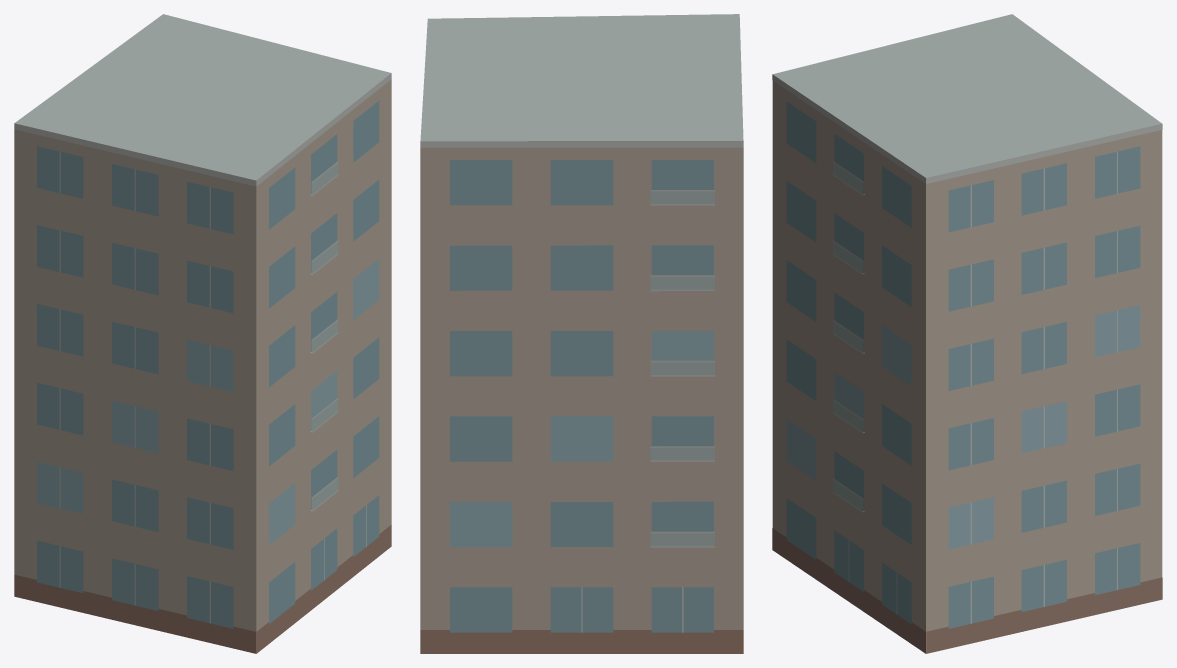
Rendered from survey-upis-32738510.glb.
The picture shows the model from 3 angles, left to right: view 1: azimuth 30°, elevation 25°; view 2: azimuth 150°, elevation 25°; view 3: azimuth 270°, elevation 25°; orthographic projection. The views are drawn at different scales.
Parts seen in each view (by area): view 1: survey-upis-32738510.tmp; view 2: survey-upis-32738510.tmp; view 3: survey-upis-32738510.tmp.
Part boxes in pixels (x1,y1,x2,y2): survey-upis-32738510.tmp: (14,14,391,653); survey-upis-32738510.tmp: (420,14,743,653); survey-upis-32738510.tmp: (772,14,1162,653).
Size of the model in its own units: 14.13 by 19.1 by 14.2.
